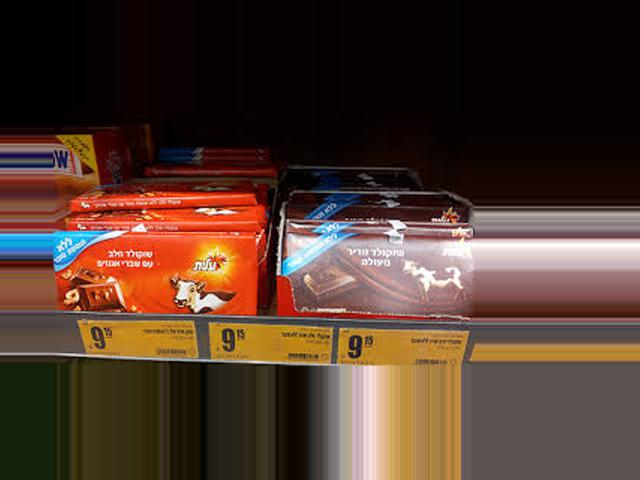chocolate: (293, 223, 476, 337)
